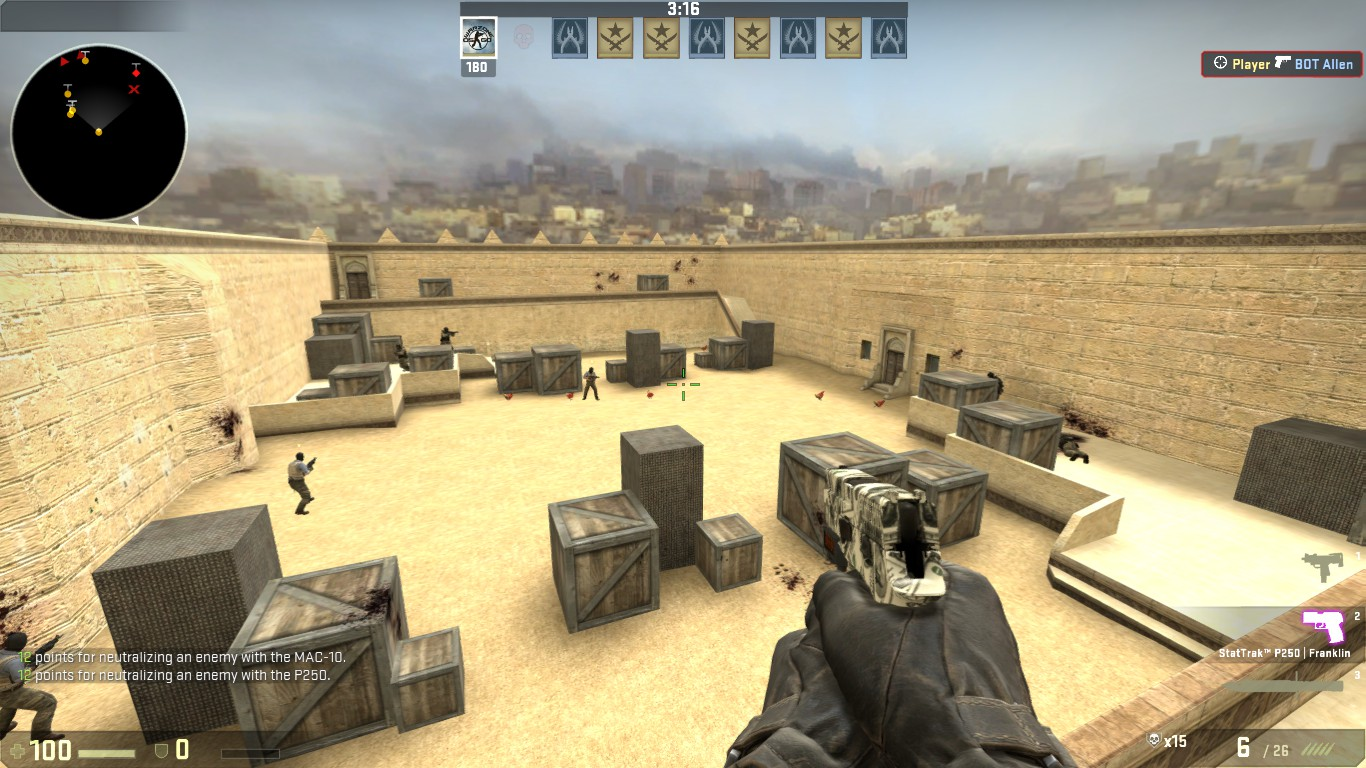c: (394, 342, 409, 370), (440, 325, 454, 348)
t: (1, 624, 58, 744), (286, 450, 316, 516), (583, 367, 601, 401)
th: (4, 629, 32, 664), (294, 451, 308, 464)
